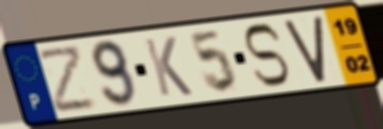5: (186, 27, 238, 95)
9: (89, 38, 140, 110)
K: (141, 35, 196, 99)
S: (241, 22, 292, 89)
V: (281, 13, 328, 85)
Z: (36, 43, 99, 116)
